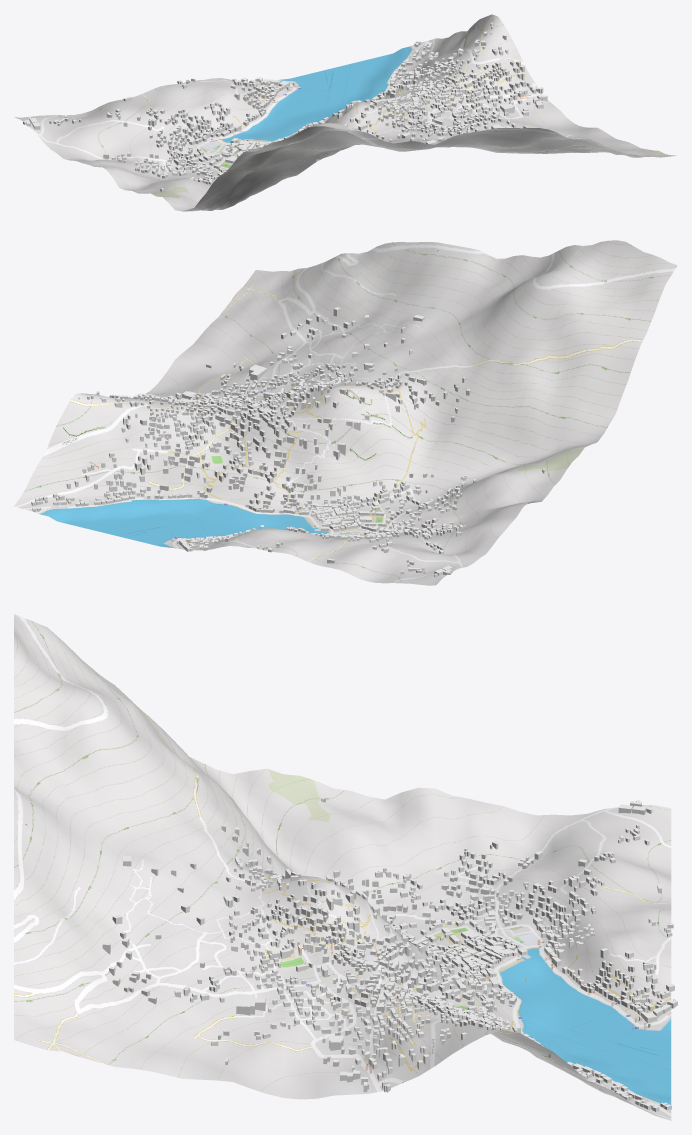
File: C1410_OsmTopo.glb
3 renders of one model, top to bottom at view 1: azimuth 30°, elevation 25°; view 2: azimuth 150°, elevation 25°; view 3: azimuth 270°, elevation 25°, orthographic. The views are drawn at different scales.
Parts seen in each view (by area): view 1: TerrainNode; view 2: TerrainNode; view 3: TerrainNode.
Boxes of the visible parts, x1,y1,x2,y2 form: TerrainNode: [14, 14, 676, 211]; TerrainNode: [14, 240, 677, 585]; TerrainNode: [14, 614, 677, 1120].
Size of the model in its own units: 1533 by 626 by 1518.
2 materials, 1 textured.
